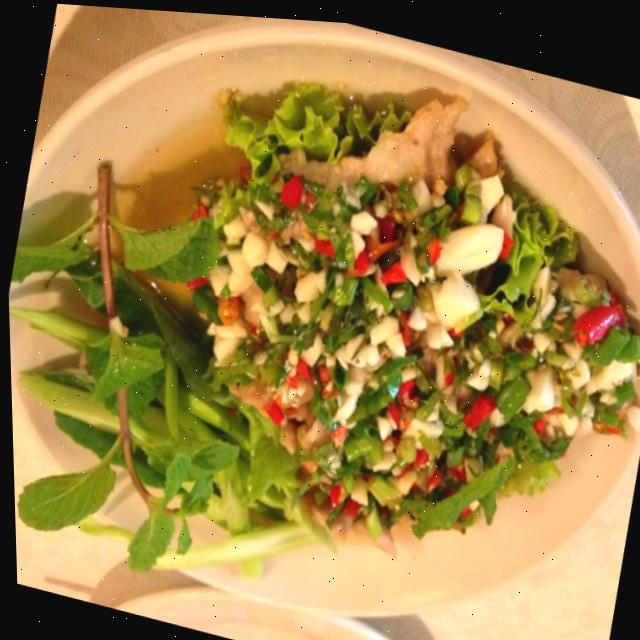猪肉菜式: (92, 18, 640, 622)
